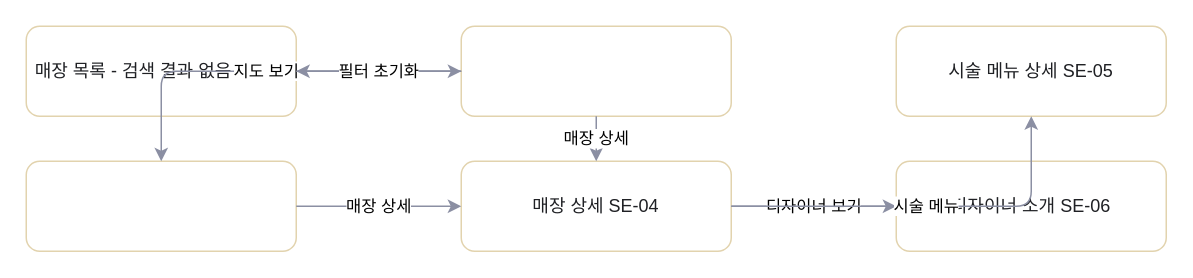
Some shapes in this 1193 by 278 pixel diagram are drawn without their labels. Here are the shapes that lost their labels. From the top down, the centre of each, then its label:
At [595,70]: "매장 목록 SE-01".
At [160,205]: "매장 지도 SE-03".
